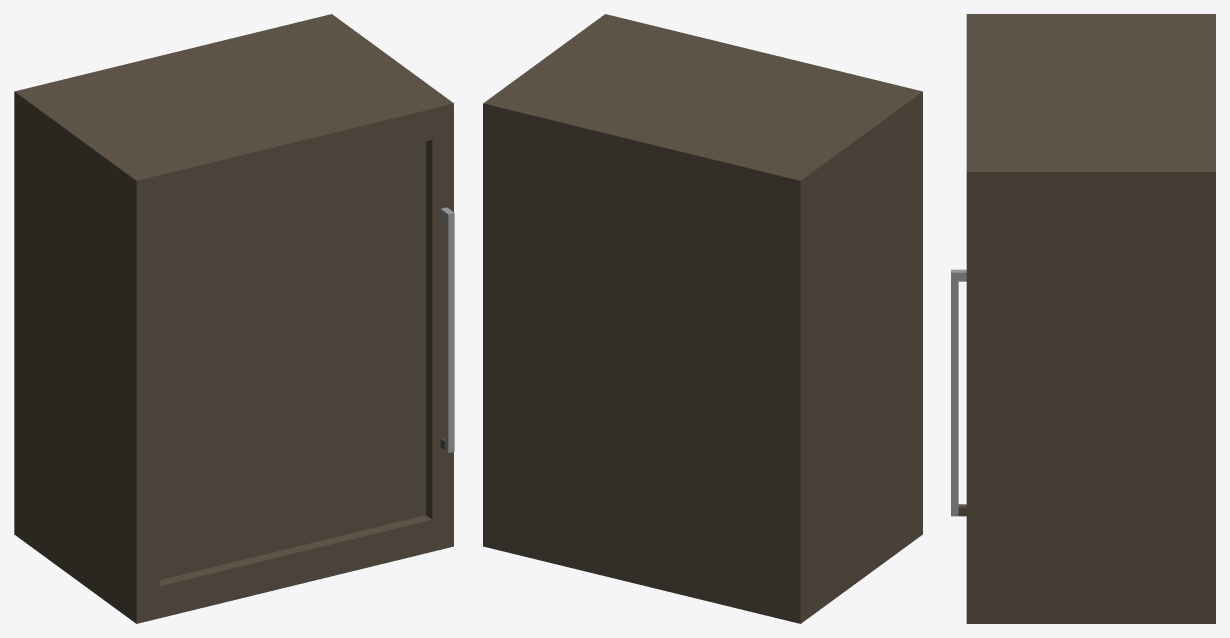
The model's file is CabinetLeft.fbx.
3 renders of one model, left to right at view 1: azimuth 30°, elevation 25°; view 2: azimuth 150°, elevation 25°; view 3: azimuth 270°, elevation 25°, orthographic. The views are drawn at different scales.
Visible parts, largest first — view 1: CabinetLeft; view 2: CabinetLeft; view 3: CabinetLeft.
Part boxes in pixels (x1,y1,x2,y2): CabinetLeft: [14, 14, 454, 623]; CabinetLeft: [483, 14, 922, 623]; CabinetLeft: [951, 14, 1215, 623].
Bounding box in the file's own units: 75 × 100 × 53.08.
